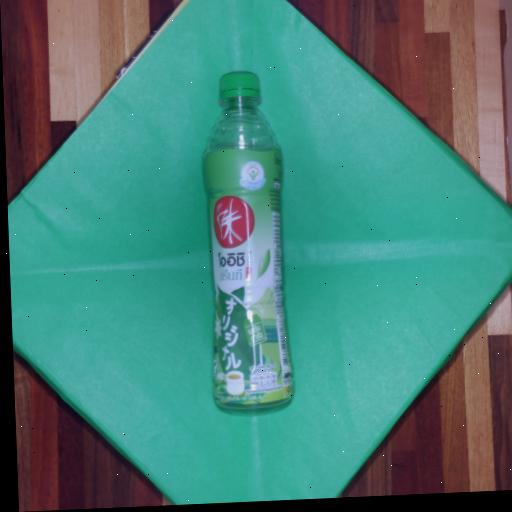bottle: (204, 72, 292, 408)
